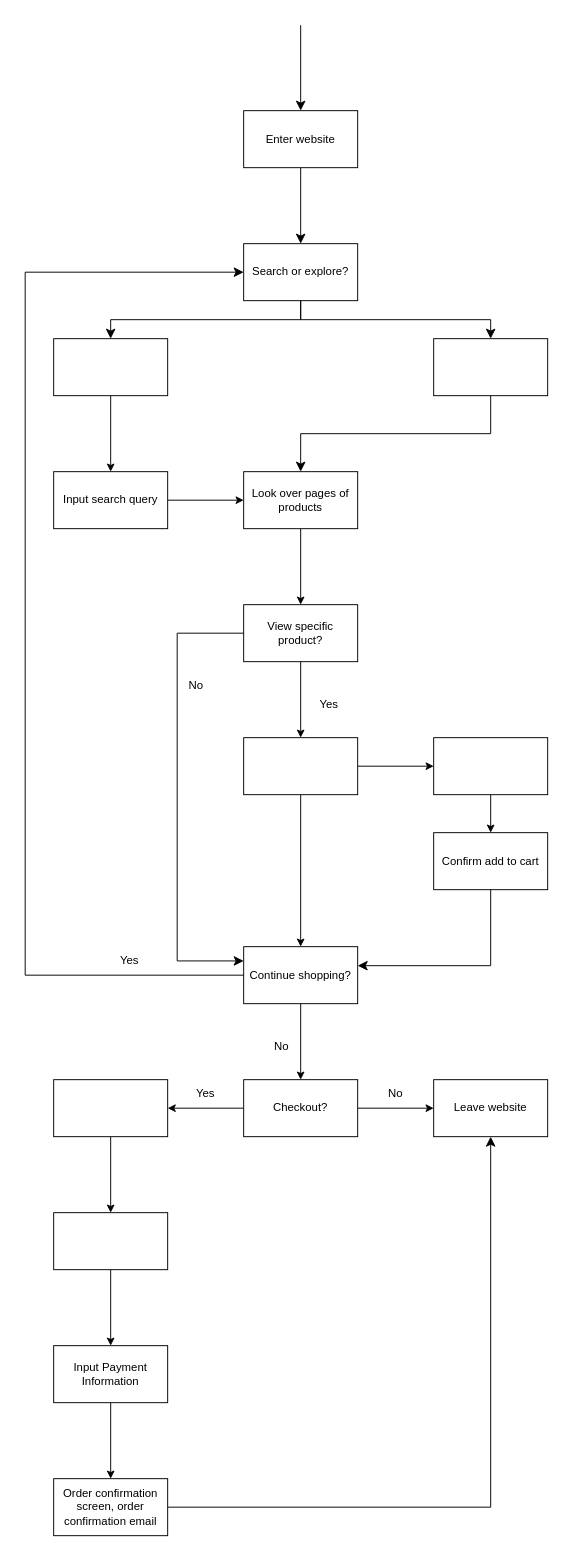
Some shapes in this 564 by 1552 pixel diagram are drawn without their labels. The shapes that lost their labels are listed below. From the top down, each one's centre as x and y in pixels, then its label:
At point (110, 367): "Search for a product".
At point (490, 367): "Explore products on homepage".
At point (300, 766): "Open product page".
At point (490, 766): "Add to cart?".
At point (110, 1108): "View Cart".
At point (110, 1241): "View Payment".
